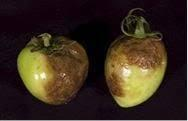tomato late blight: (104, 11, 169, 110), (17, 34, 90, 107)
